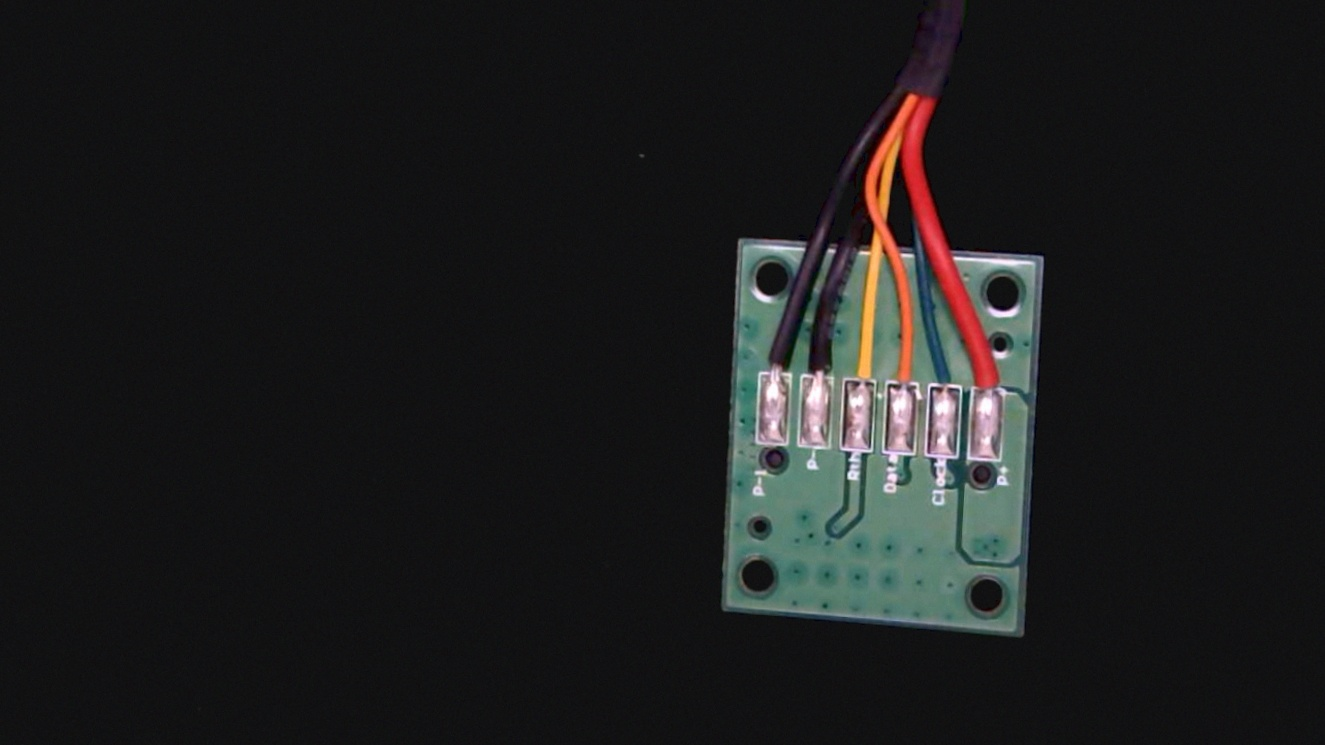Black: (799, 317, 842, 397)
Black1: (755, 321, 793, 393)
Green: (926, 327, 970, 410)
Orange: (884, 320, 925, 405)
Red: (967, 326, 1011, 409)
Yellow: (842, 328, 882, 402)
